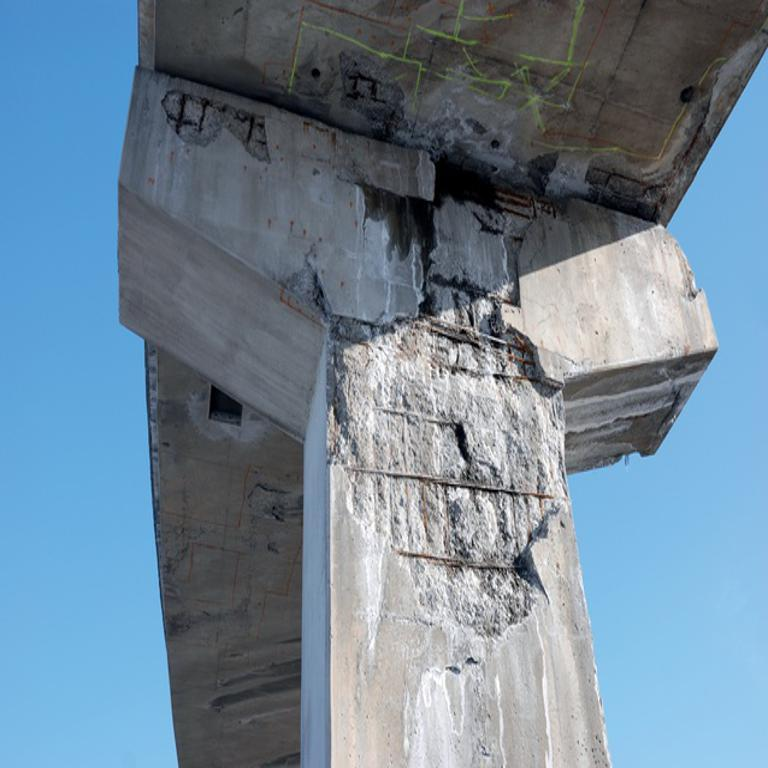exposed_rebar: (354, 469, 552, 499), (396, 550, 513, 569)
spalling: (271, 51, 662, 334), (333, 276, 568, 636)
